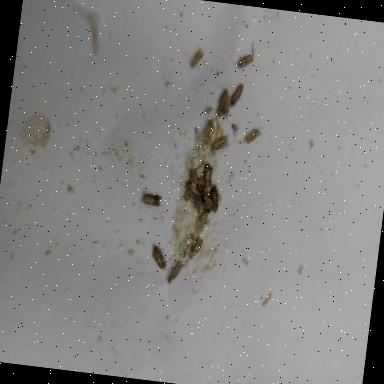pbw: (208, 133, 231, 160), (215, 86, 231, 117), (206, 185, 222, 216), (186, 188, 204, 214), (150, 244, 168, 270), (194, 203, 208, 236), (168, 260, 187, 284), (188, 234, 204, 262), (242, 125, 261, 146), (200, 162, 214, 190), (228, 82, 244, 106), (140, 193, 166, 207), (181, 234, 195, 258), (186, 168, 202, 188), (204, 119, 215, 148), (190, 48, 204, 68), (238, 53, 254, 68), (182, 179, 192, 201)
